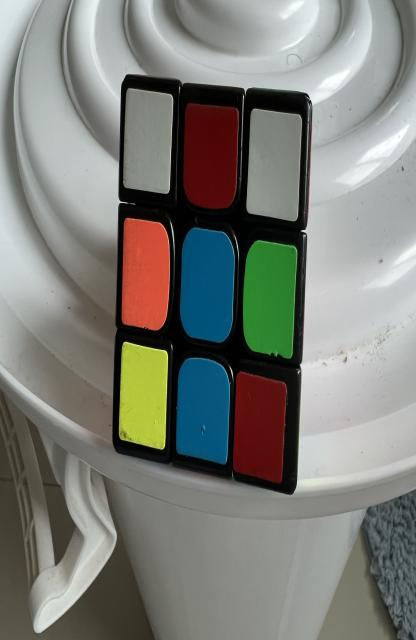Blue: (180, 227, 235, 343), (176, 358, 230, 465)
Green: (243, 240, 297, 358)
Orange: (122, 218, 170, 330)
Red: (233, 372, 287, 483), (183, 103, 239, 210)
White: (246, 108, 301, 222), (123, 88, 173, 193)
Yellow: (119, 342, 168, 450)
